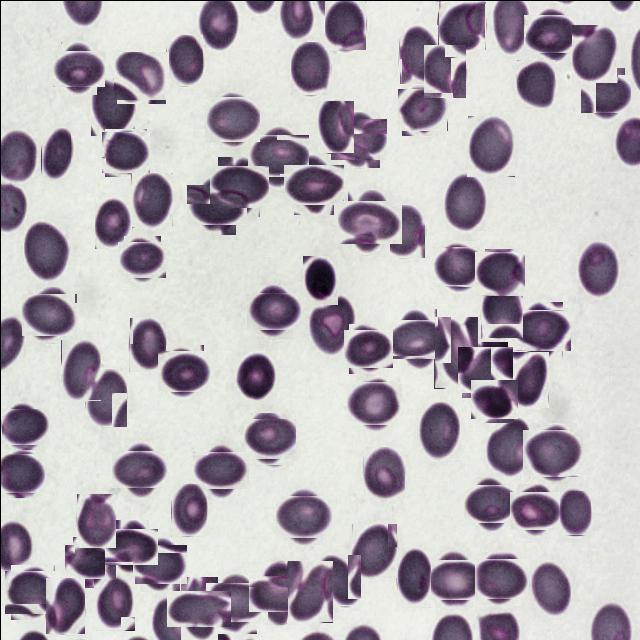red blood cell: (433, 316, 477, 388), (466, 115, 514, 176), (524, 426, 578, 480), (342, 194, 396, 248), (23, 218, 69, 281), (286, 560, 332, 622), (115, 49, 167, 102), (251, 129, 303, 181), (212, 160, 264, 212), (485, 416, 530, 476), (572, 24, 618, 82), (211, 576, 262, 628), (206, 92, 257, 144), (391, 313, 442, 364), (308, 295, 352, 354), (90, 77, 134, 135), (190, 178, 241, 228), (458, 344, 509, 394), (60, 338, 100, 401), (288, 158, 338, 208), (516, 305, 566, 355), (278, 491, 328, 541), (7, 566, 57, 616), (254, 568, 304, 618), (174, 583, 224, 633), (416, 401, 459, 459), (528, 559, 570, 618), (351, 523, 396, 578), (349, 378, 398, 428), (333, 114, 382, 164), (443, 172, 485, 230), (84, 368, 126, 426), (576, 240, 618, 298), (429, 554, 478, 603), (398, 24, 438, 84), (23, 290, 72, 338), (92, 574, 134, 630), (382, 204, 426, 257), (422, 44, 465, 98), (130, 172, 172, 227), (476, 554, 524, 602), (44, 577, 84, 634), (362, 446, 404, 500), (480, 284, 522, 338), (436, 1, 484, 48), (527, 10, 574, 57), (159, 347, 206, 394), (476, 250, 524, 296), (136, 540, 182, 587), (399, 86, 446, 132), (197, 447, 244, 493), (318, 554, 360, 605), (290, 41, 330, 94), (436, 243, 482, 289), (466, 480, 512, 526), (246, 415, 292, 461), (250, 288, 296, 334), (116, 446, 162, 492), (76, 493, 115, 547), (323, 0, 365, 50), (512, 487, 558, 532), (396, 547, 430, 607), (582, 70, 628, 114), (102, 130, 148, 174), (512, 351, 548, 407), (234, 350, 274, 400), (128, 317, 165, 371), (108, 524, 152, 568), (345, 326, 389, 370), (56, 46, 100, 90), (472, 376, 516, 420), (165, 34, 202, 86), (94, 196, 131, 248), (316, 100, 353, 152), (170, 483, 206, 536), (68, 540, 111, 583), (2, 405, 45, 448), (0, 451, 42, 495), (516, 59, 554, 107), (120, 238, 163, 280), (302, 255, 338, 305), (40, 127, 70, 180), (558, 490, 590, 535)
